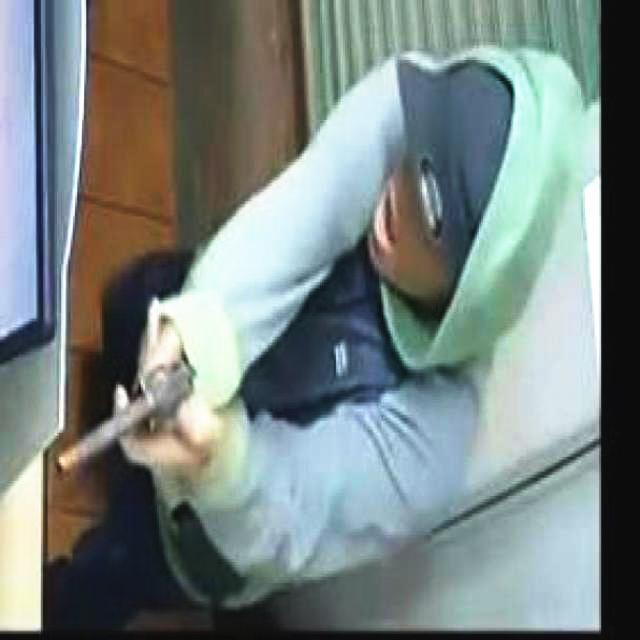Gun: (52, 359, 196, 478)
